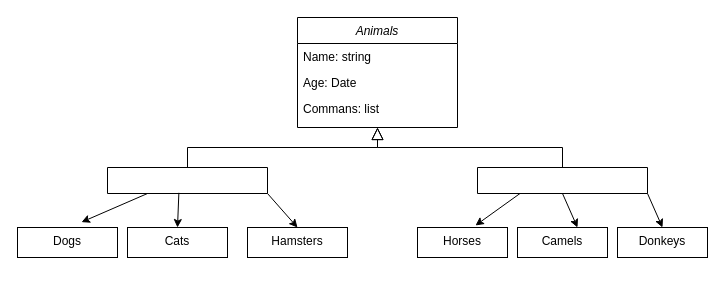
Some shapes in this 725 by 283 pixel diagram are drawn without their labels. Each missing label, with the centre of its shape:
"Home_animals" goes at [187,180].
"Pack_animals" goes at [562,180].
